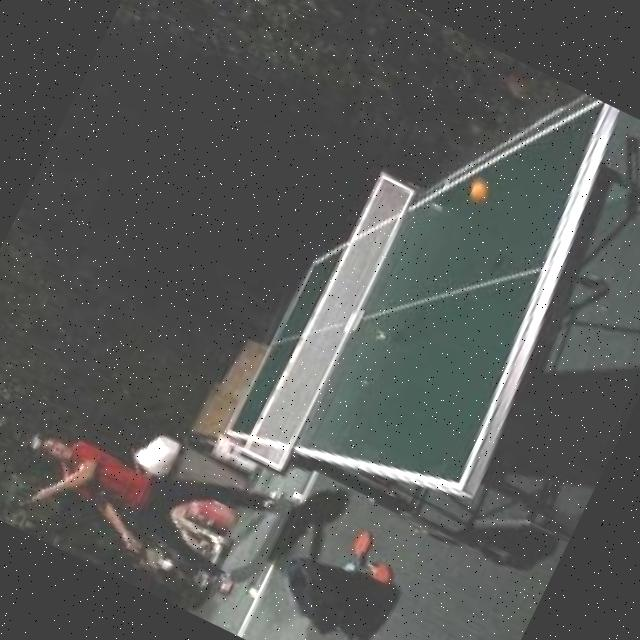ping-pong-ball: (460, 173, 496, 208)
